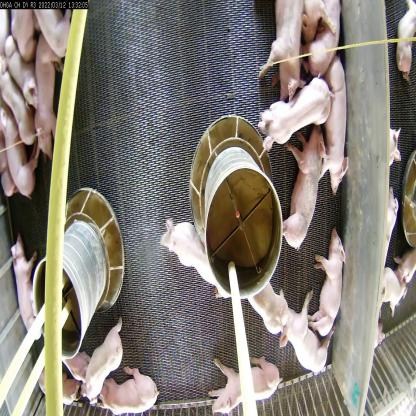Pig: (257, 78, 331, 158), (279, 135, 325, 253), (209, 350, 290, 415), (23, 30, 62, 159), (161, 218, 222, 296), (7, 241, 50, 348), (258, 0, 298, 109), (280, 294, 329, 382), (312, 223, 350, 335), (74, 322, 126, 397), (238, 264, 288, 340), (0, 105, 34, 213), (0, 67, 39, 157), (96, 366, 162, 416), (326, 56, 350, 192), (313, 0, 344, 87), (305, 0, 328, 52)
